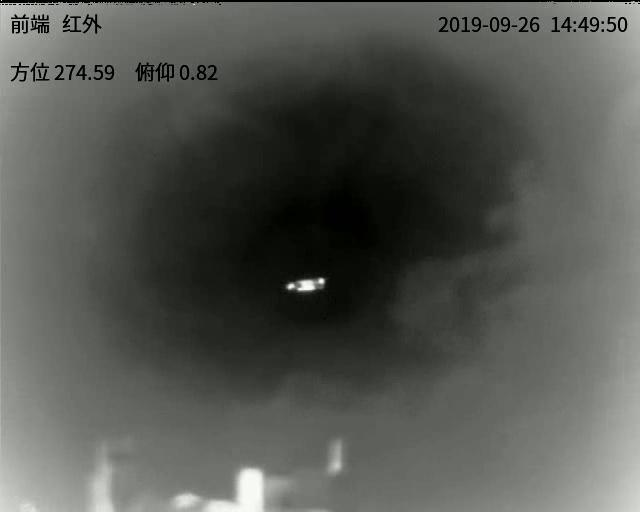DRONE: (285, 275, 326, 292)
